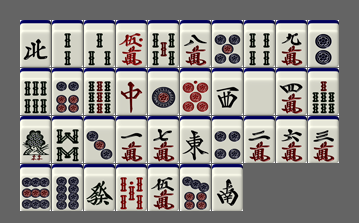0m: (116, 20, 147, 67)
0p: (180, 68, 211, 115)
0s: (116, 164, 147, 211)
1m: (116, 116, 147, 163)
1p: (148, 68, 179, 115)
1s: (20, 116, 51, 163)
1z: (180, 116, 211, 163)
2m: (244, 116, 275, 163)
2p: (308, 20, 339, 67)
2s: (52, 20, 83, 67)
2z: (212, 164, 243, 211)
3m: (308, 116, 339, 163)
3p: (84, 116, 115, 163)
3s: (84, 20, 115, 67)
3z: (212, 68, 243, 115)
4m: (276, 68, 307, 115)
4p: (212, 116, 243, 163)
4s: (244, 20, 275, 67)
4z: (20, 20, 51, 67)
5m: (148, 164, 179, 211)
5p: (212, 20, 243, 67)
5s: (148, 20, 179, 67)
5z: (244, 68, 275, 115)
6m: (276, 116, 307, 163)
6p: (52, 68, 83, 115)
6s: (20, 68, 51, 115)
6z: (84, 164, 115, 211)
7m: (148, 116, 179, 163)
7p: (180, 164, 211, 211)
7s: (308, 68, 339, 115)
7z: (116, 68, 147, 115)
8m: (180, 20, 211, 67)
8p: (52, 164, 83, 211)
8s: (52, 116, 83, 163)
9m: (276, 20, 307, 67)
9p: (20, 164, 51, 211)
9s: (84, 68, 115, 115)
